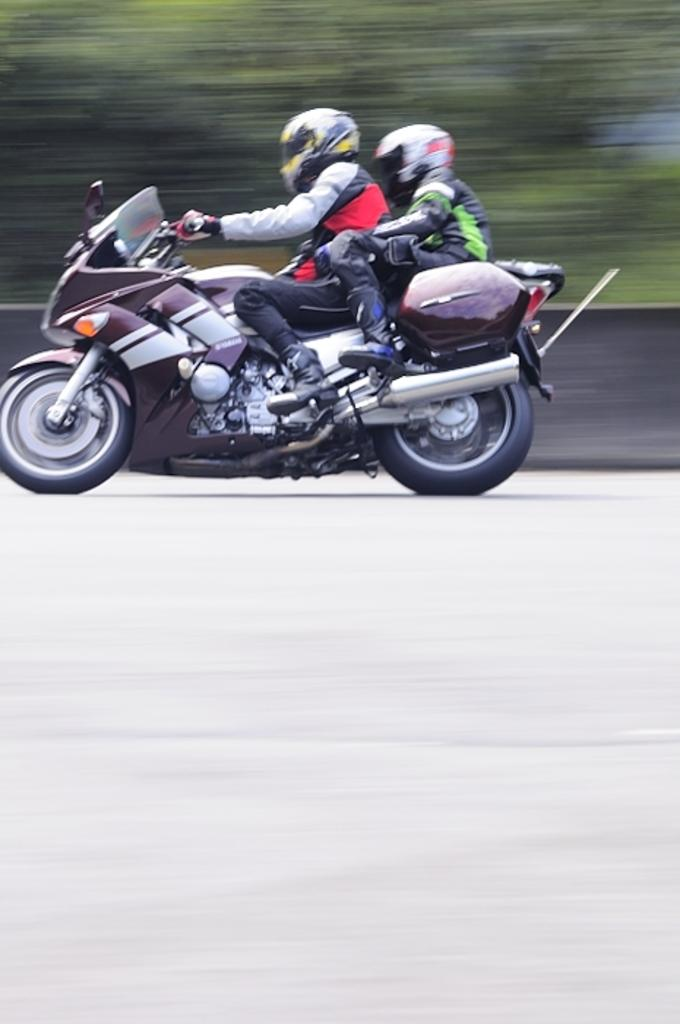helmet: (278, 107, 362, 197), (372, 123, 456, 207)
